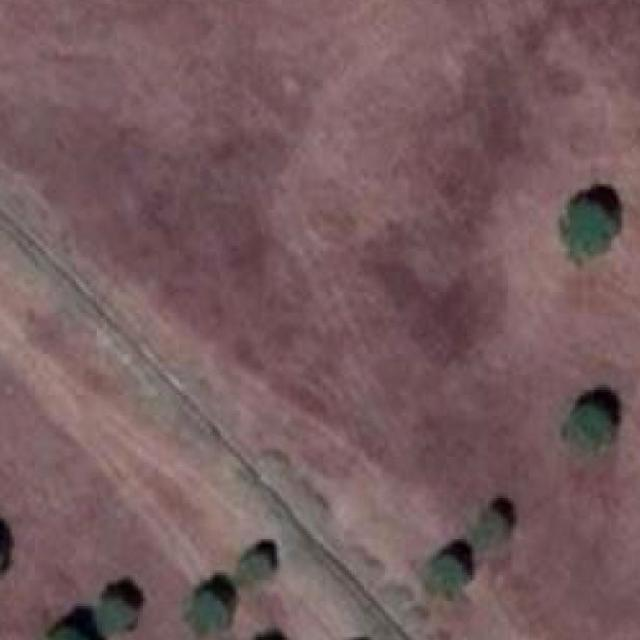Tree: (560, 202, 616, 268), (428, 555, 472, 604), (562, 408, 613, 449), (190, 591, 230, 637), (97, 596, 138, 635), (232, 554, 272, 584), (478, 512, 508, 542)
